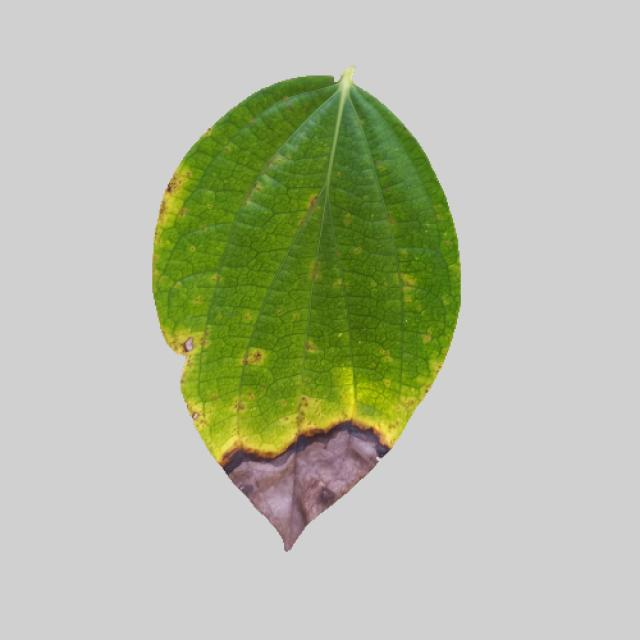leaf-blight: (144, 73, 470, 548)
